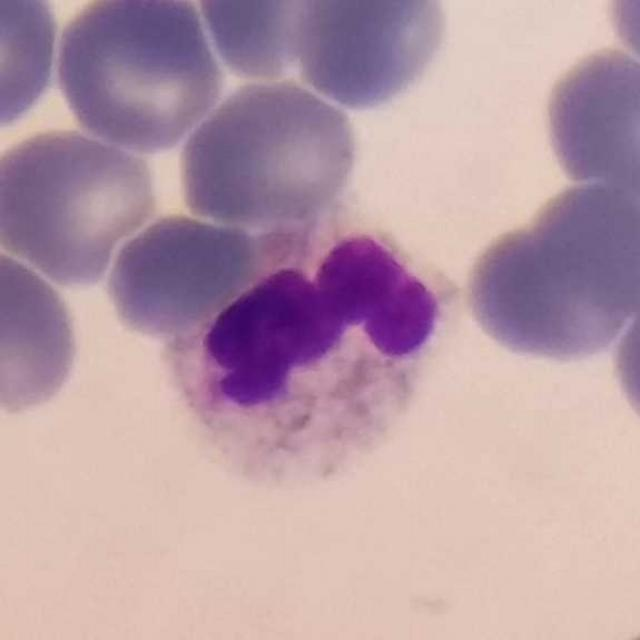Neutrophil: (152, 215, 468, 502)
RBC: (456, 176, 640, 369), (174, 75, 364, 228), (50, 1, 228, 154), (0, 123, 161, 286), (100, 208, 272, 346), (287, 0, 459, 116), (536, 44, 640, 215), (0, 244, 87, 422), (192, 0, 358, 86), (0, 0, 66, 135), (606, 266, 640, 452), (601, 0, 640, 83)
